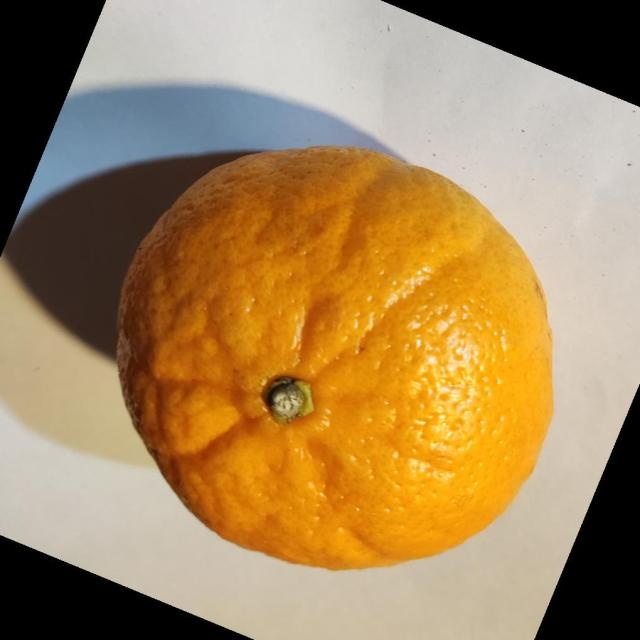agrume: (114, 143, 554, 571)
